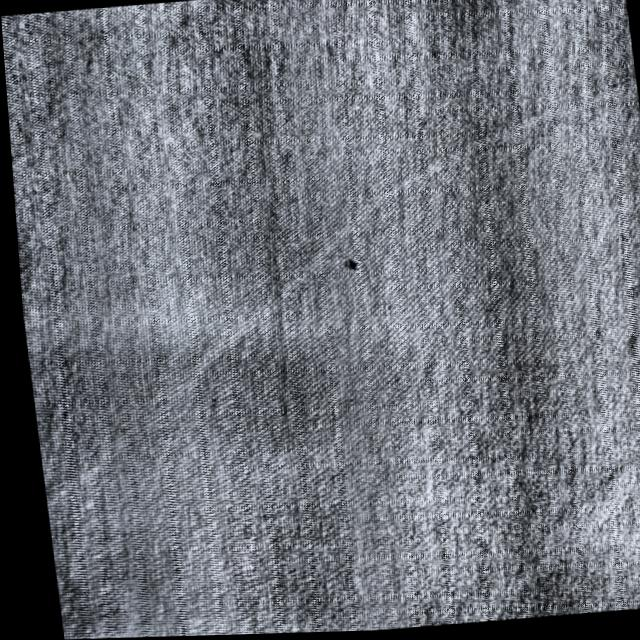Hole: (332, 256, 362, 278)
